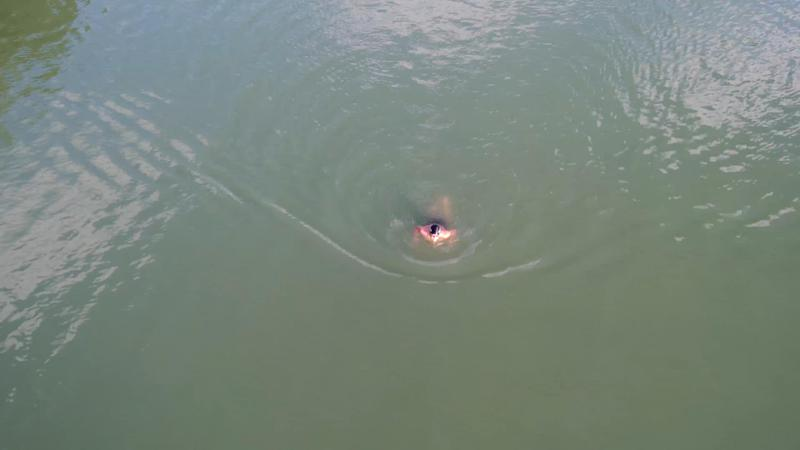swimmers: (409, 192, 459, 250)
